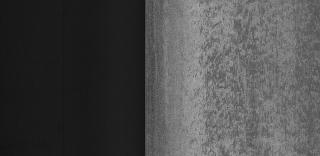silk spot: (188, 7, 320, 146)
